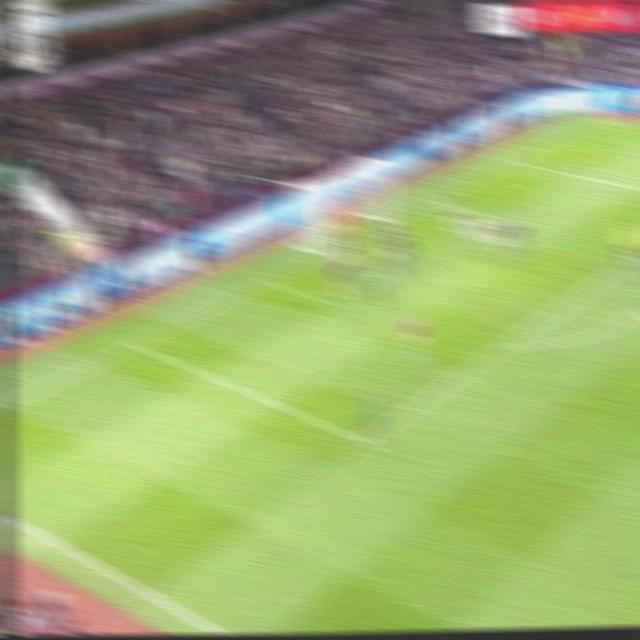bigarea_bottom_inner: (352, 435, 376, 449)
bigarea_bottom_outter: (124, 335, 145, 350)
bigarea_top_outter: (506, 155, 524, 166)
bottom_arc_area_intersection: (494, 335, 517, 355)
corner: (591, 114, 611, 123)
smallarea_bottom_inner: (320, 295, 340, 312)
smallarea_bottom_outter: (258, 270, 279, 288)
smallarea_top_outter: (427, 192, 446, 207)
top_arc_area_intersection: (622, 254, 639, 267)
